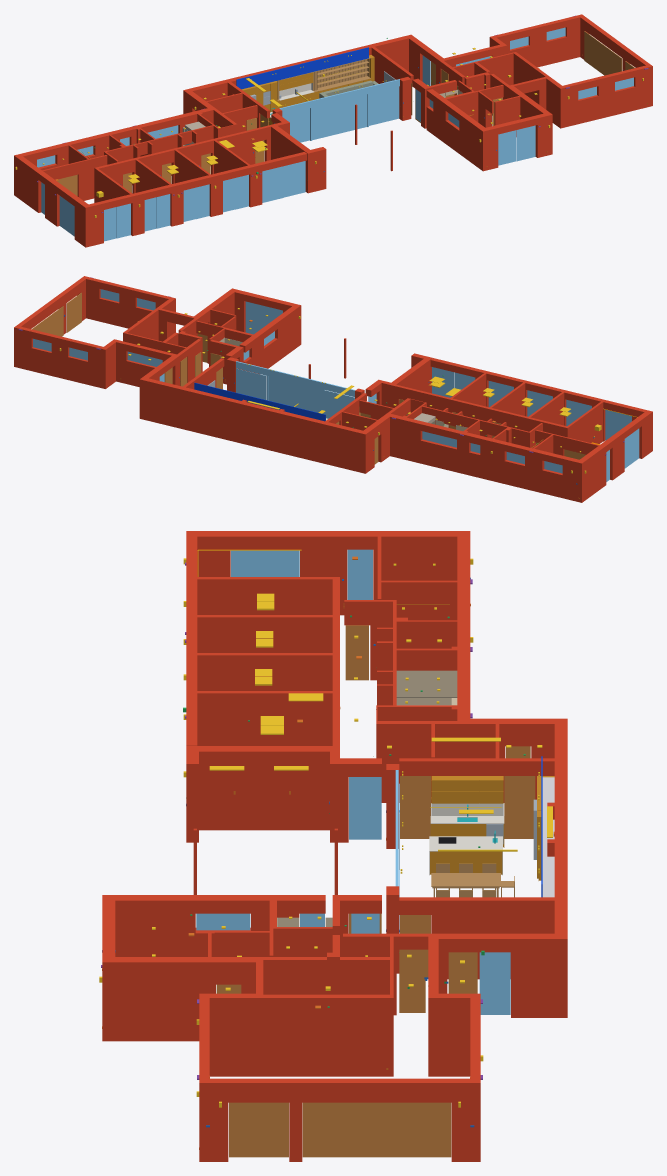
File: ground_floor.glb
3 renders of one model, top to bottom at view 1: azimuth 30°, elevation 25°; view 2: azimuth 150°, elevation 25°; view 3: azimuth 270°, elevation 25°, orthographic. The views are drawn at different scales.
Parts seen in each view (by area): view 1: masonry__W-002__, masonry__W-005__, masonry__W-013__, masonry__W-030__, masonry__W-054__, masonry__W-026__, masonry__W-027__, masonry__W-029__, glazing__WIN-OP28__, soffit_naturheld_140__SOFFIT-1.02-FACE__, glazing__WIN-OP21__ (×2), masonry__W-001__ (+38 smaller); view 2: masonry__W-029__, masonry__W-026__, masonry__W-027__, masonry__W-005__, masonry__W-030__, masonry__W-013__, masonry__W-054__, masonry__W-002__, masonry__W-025__, glazing__WIN-OP28__, masonry__W-067__, masonry__W-022__ (+31 smaller); view 3: masonry__W-049__, masonry__W-066__, masonry__W-067__, masonry__W-063__, masonry__W-030__, door__D-OP50__, masonry__W-054__, masonry__W-044__, masonry__W-060__, masonry__W-056__, masonry__W-034__, masonry__W-041__ (+41 smaller).
Part boxes in pixels (x1,y1,x2,y2): masonry__W-002__: (89,152,307,245); masonry__W-005__: (558,65,648,128); masonry__W-013__: (94,125,270,202); masonry__W-030__: (17,156,91,247); masonry__W-054__: (426,89,488,171); masonry__W-026__: (14,107,216,197); masonry__W-027__: (489,15,580,67); masonry__W-029__: (183,34,413,113); glazing__WIN-OP28__: (312,94,367,140); soffit_naturheld_140__SOFFIT-1.02-FACE__: (236,47,368,89); glazing__WIN-OP21__ (×2): (262,161,305,202); masonry__W-001__: (485,113,546,169); masonry__W-029__: (139,377,368,473); masonry__W-026__: (385,413,585,502); masonry__W-027__: (18,326,107,388); masonry__W-005__: (86,277,175,333); masonry__W-030__: (580,410,652,500); masonry__W-013__: (394,384,569,437); masonry__W-054__: (239,304,301,374); masonry__W-002__: (430,358,646,441); masonry__W-025__: (112,339,173,386); glazing__WIN-OP28__: (268,376,322,413); masonry__W-067__: (14,276,88,367); masonry__W-022__: (422,406,530,447); masonry__W-049__: (186,746,339,830); masonry__W-066__: (263,994,393,1076); masonry__W-067__: (199,1078,480,1161); masonry__W-063__: (102,957,263,1041); masonry__W-030__: (186,531,457,615); door__D-OP50__: (302,1102,451,1157); masonry__W-054__: (102,895,325,956); masonry__W-044__: (197,691,332,745); masonry__W-060__: (428,933,554,1017); masonry__W-056__: (399,897,554,979); masonry__W-034__: (197,615,332,652); masonry__W-041__: (197,653,332,690).
Size of the model in its own units: 45.25 by 4.87 by 16.15.
